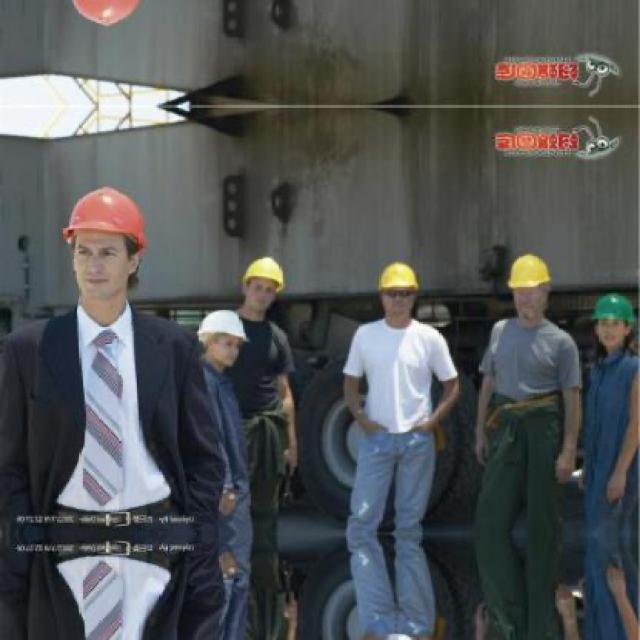con casco: (22, 166, 147, 294), (493, 251, 562, 333), (225, 257, 312, 319), (355, 264, 432, 334), (582, 284, 640, 364)
